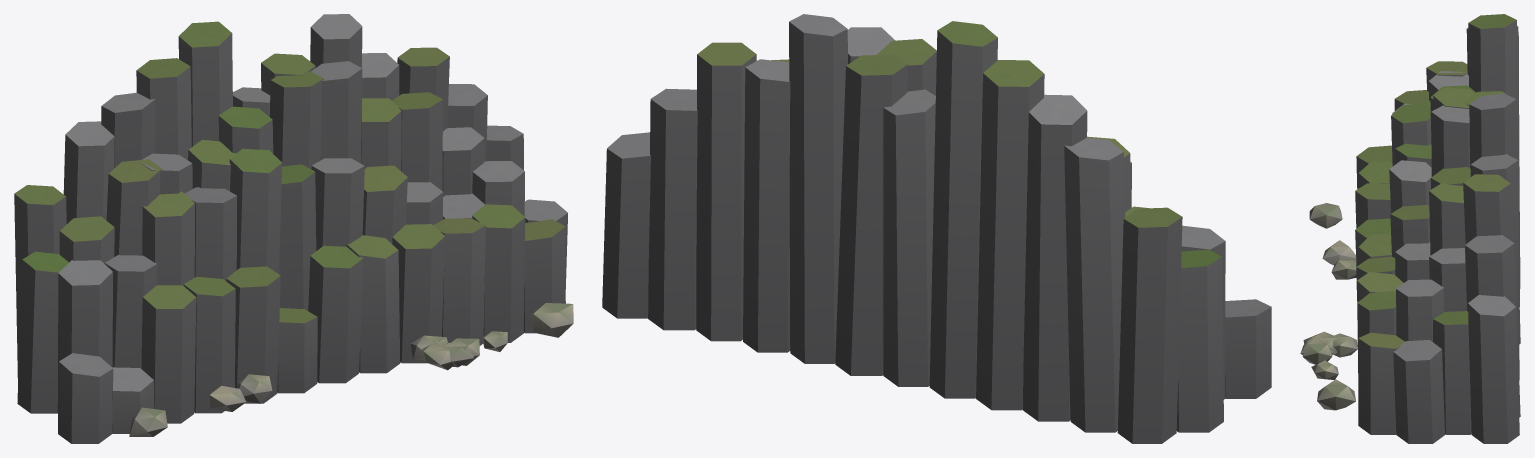
The model's file is basalt_cliff_b.glb.
3 renders of one model, left to right at view 1: azimuth 30°, elevation 25°; view 2: azimuth 150°, elevation 25°; view 3: azimuth 270°, elevation 25°, orthographic. The views are drawn at different scales.
Visible parts, largest first — view 1: basalt_cliff_b; view 2: basalt_cliff_b; view 3: basalt_cliff_b.
Boxes of the visible parts, <box> form: basalt_cliff_b: <box>14,14,573,443</box>; basalt_cliff_b: <box>602,14,1271,443</box>; basalt_cliff_b: <box>1300,14,1520,443</box>.
Size of the model in its own units: 7.8 by 4.55 by 3.17.
